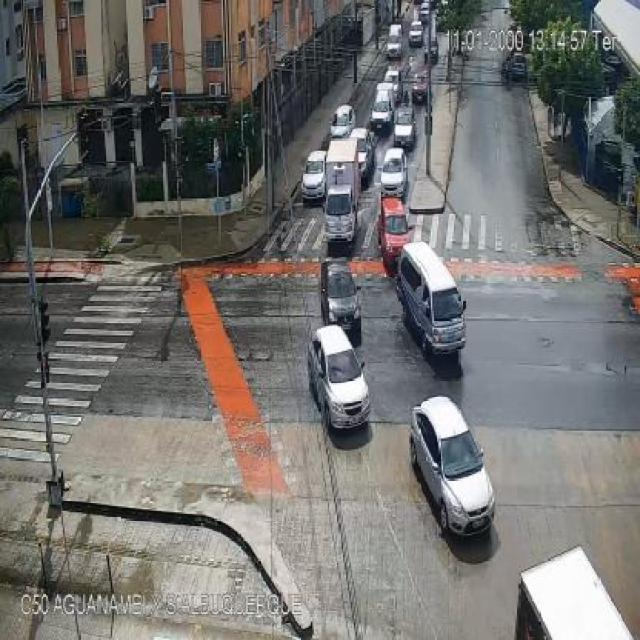Car: (408, 392, 498, 536), (307, 326, 372, 432), (317, 260, 363, 335), (376, 195, 414, 270), (377, 146, 410, 198), (301, 149, 329, 203), (390, 108, 417, 148), (329, 106, 357, 140), (412, 63, 432, 101), (383, 70, 404, 101), (505, 51, 525, 77), (406, 21, 424, 48), (423, 37, 439, 62)
Truck: (515, 544, 640, 640), (323, 137, 361, 245), (370, 84, 397, 130)
Van: (393, 240, 468, 358), (385, 22, 405, 61)
